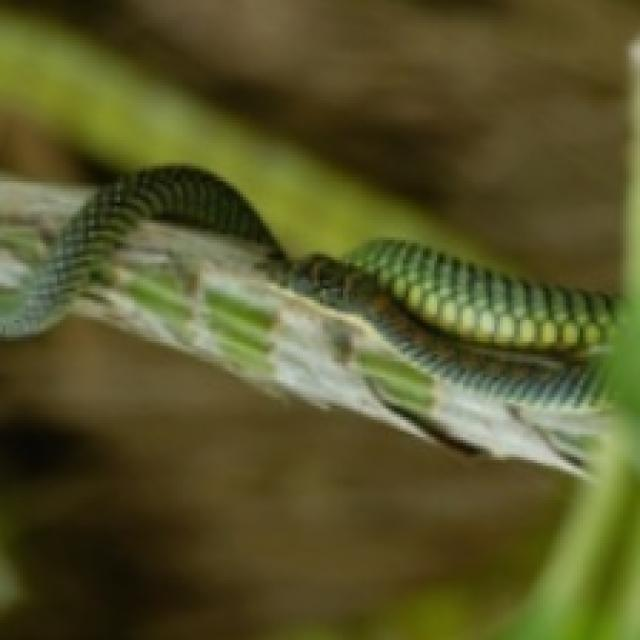paradise tree snake: (285, 239, 615, 408), (0, 166, 285, 338)
